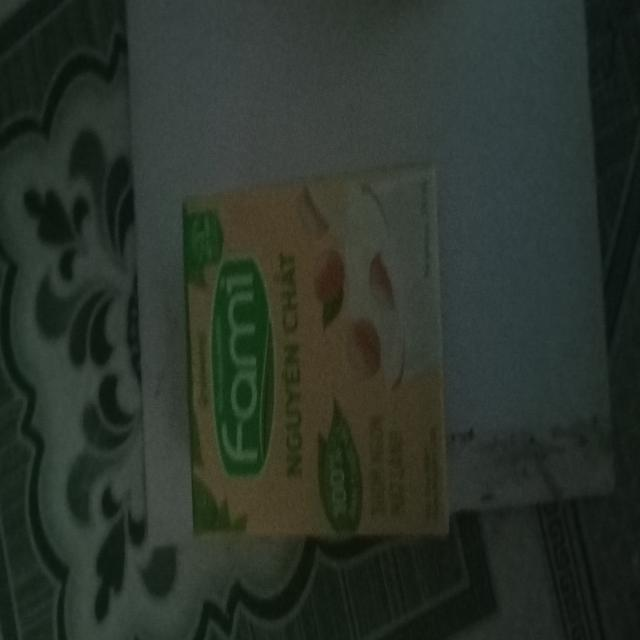Fami: (185, 176, 443, 536)
